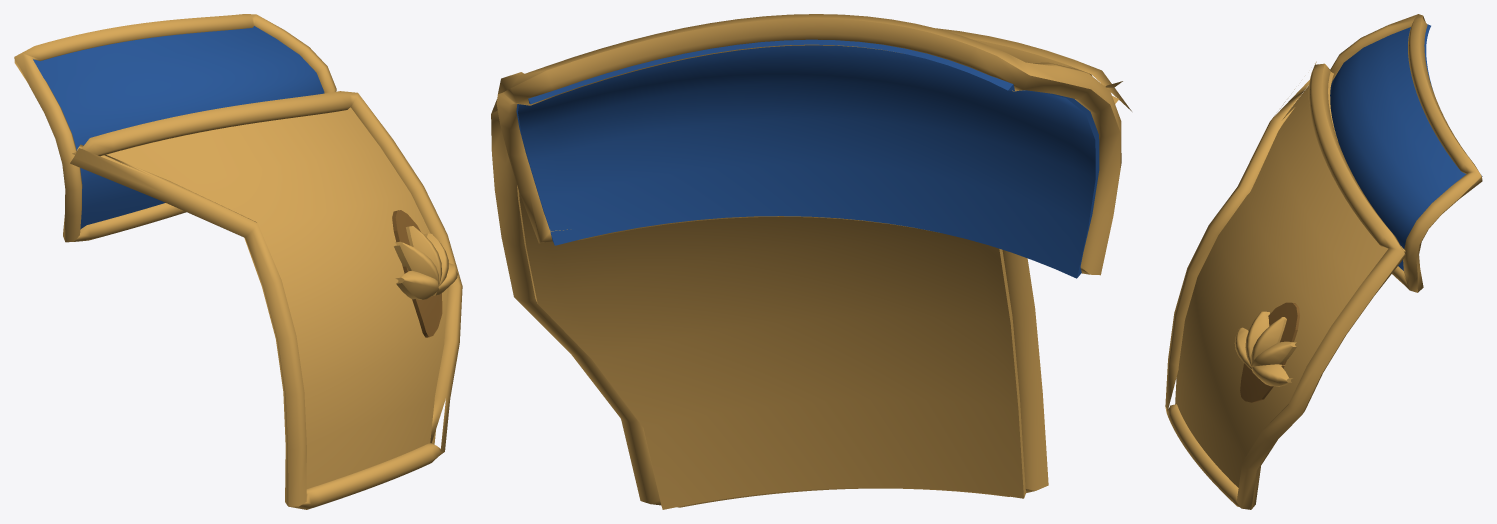
Rendered from shoulder-armour-mid.glb.
The picture shows the model from 3 angles, left to right: view 1: azimuth 30°, elevation 25°; view 2: azimuth 150°, elevation 25°; view 3: azimuth 270°, elevation 25°; orthographic projection. The views are drawn at different scales.
Parts seen in each view (by area): view 1: OriginalLeftShoulderArmour; view 2: OriginalLeftShoulderArmour; view 3: OriginalLeftShoulderArmour.
Boxes of the visible parts, x1,y1,x2,y2 form: OriginalLeftShoulderArmour: (14, 14, 462, 509); OriginalLeftShoulderArmour: (491, 14, 1131, 509); OriginalLeftShoulderArmour: (1165, 14, 1482, 509).
Size of the model in its own units: 0.1057 by 0.1106 by 0.0872.
